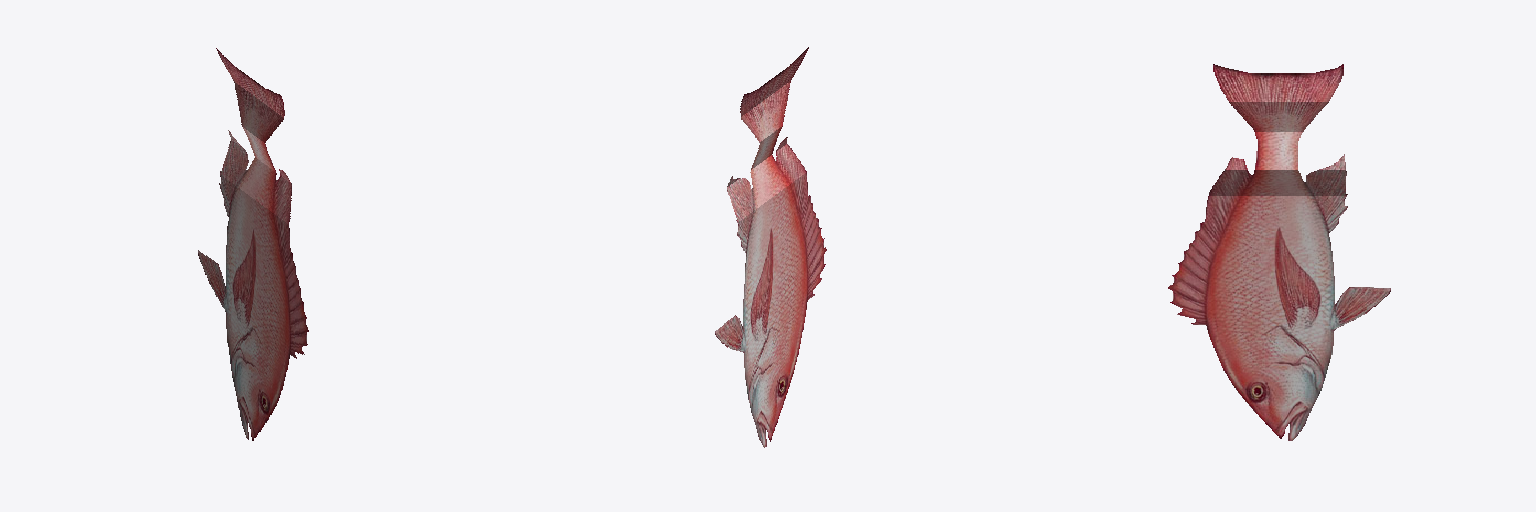
3 views of the same model, side by side, from view 1: azimuth 30°, elevation 25°; view 2: azimuth 150°, elevation 25°; view 3: azimuth 270°, elevation 25° (orthographic).
Bounding box in the file's own units: 0.0908 × 1.97 × 1.06.
1 materials, 1 textured.